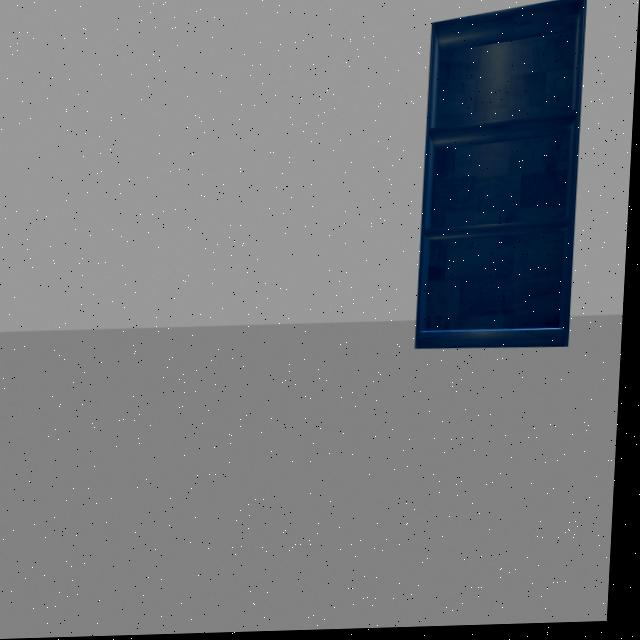shelf: (399, 0, 605, 376)
